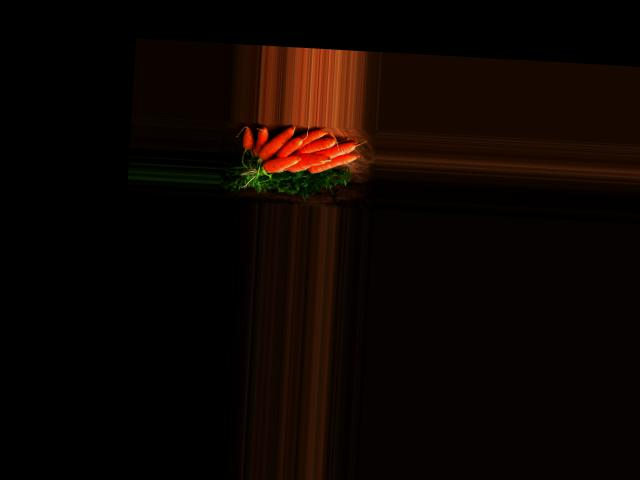carrot: (238, 126, 254, 153)
